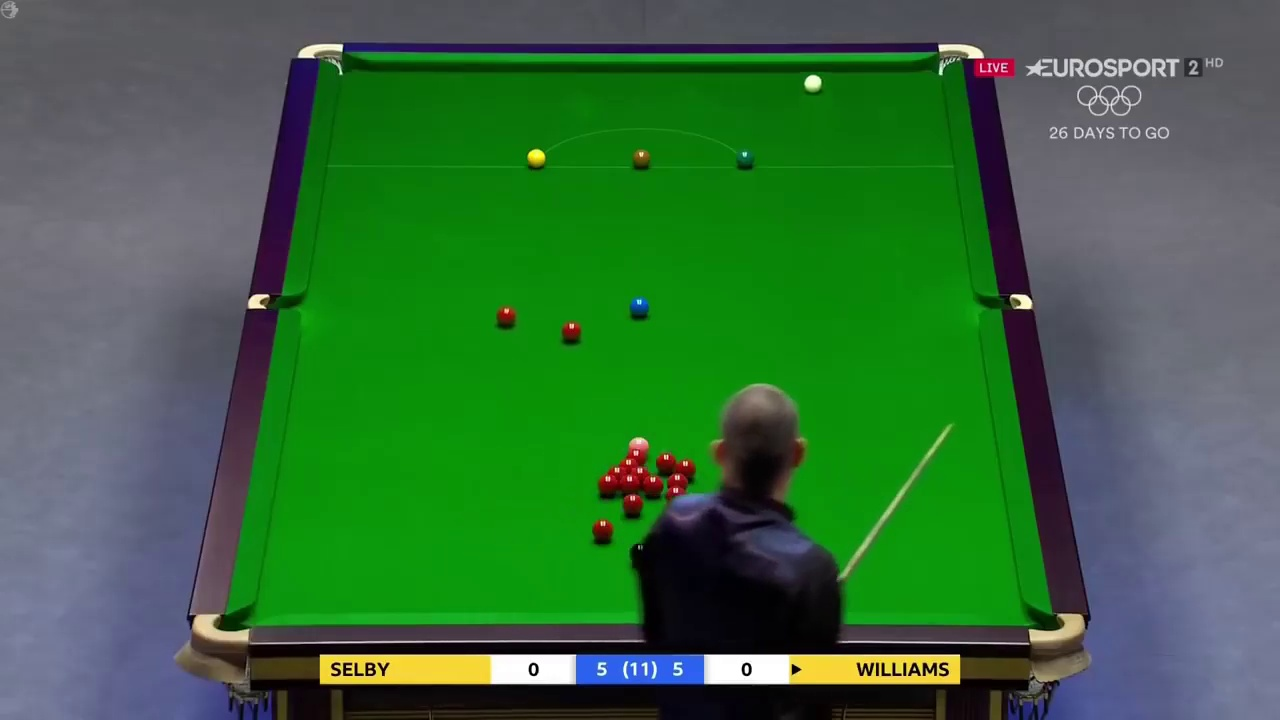ball: (588, 516, 614, 543), (493, 302, 517, 326), (628, 297, 650, 318), (561, 319, 582, 339), (525, 149, 546, 168), (631, 150, 650, 168), (803, 75, 822, 93), (623, 495, 642, 513), (735, 152, 754, 168)
